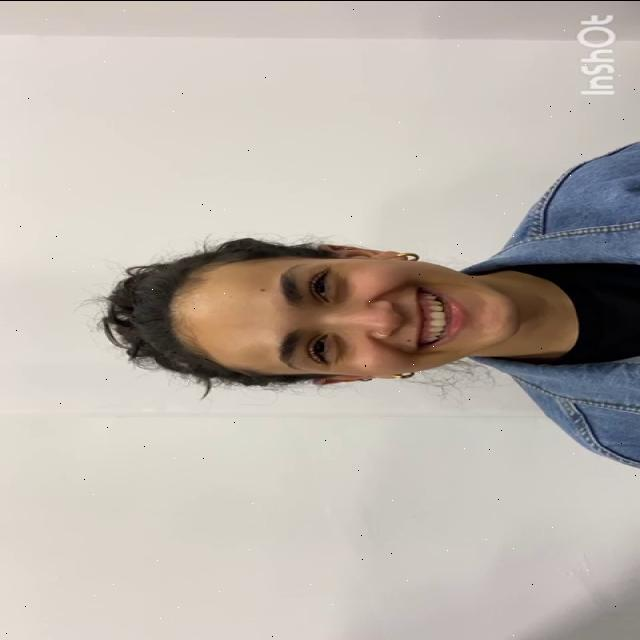happy: (179, 256, 523, 376)
